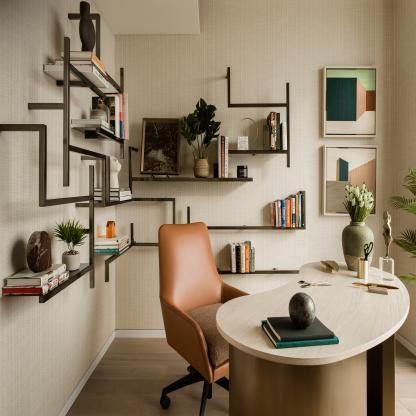chair: (152, 213, 251, 413)
table: (215, 254, 412, 416)
